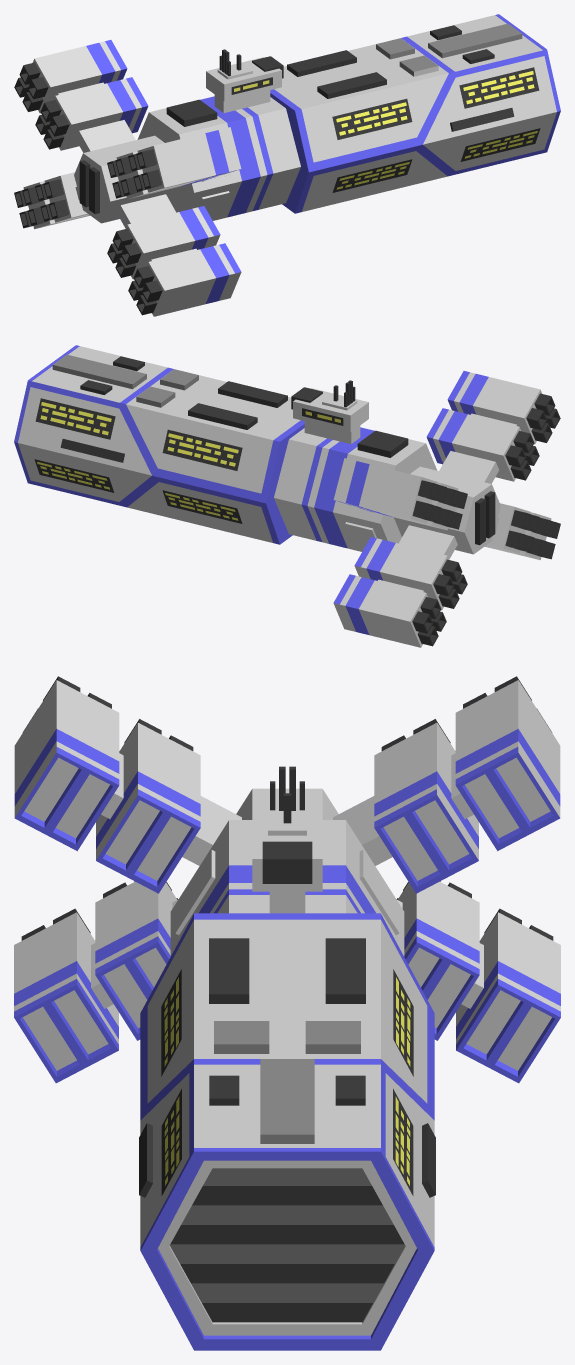
The model's file is Cales Class Carrier.fbx.
3 renders of one model, top to bottom at view 1: azimuth 30°, elevation 25°; view 2: azimuth 150°, elevation 25°; view 3: azimuth 270°, elevation 25°, orthographic. The views are drawn at different scales.
Visible parts, largest first — view 1: Group_5_1; view 2: Group_5_1; view 3: Group_5_1.
Boxes of the visible parts, bbox=[...] form: Group_5_1: bbox=[14, 14, 560, 316]; Group_5_1: bbox=[14, 345, 560, 647]; Group_5_1: bbox=[14, 676, 560, 1350].
Bounding box in the file's own units: 2168 × 893 × 1205.
